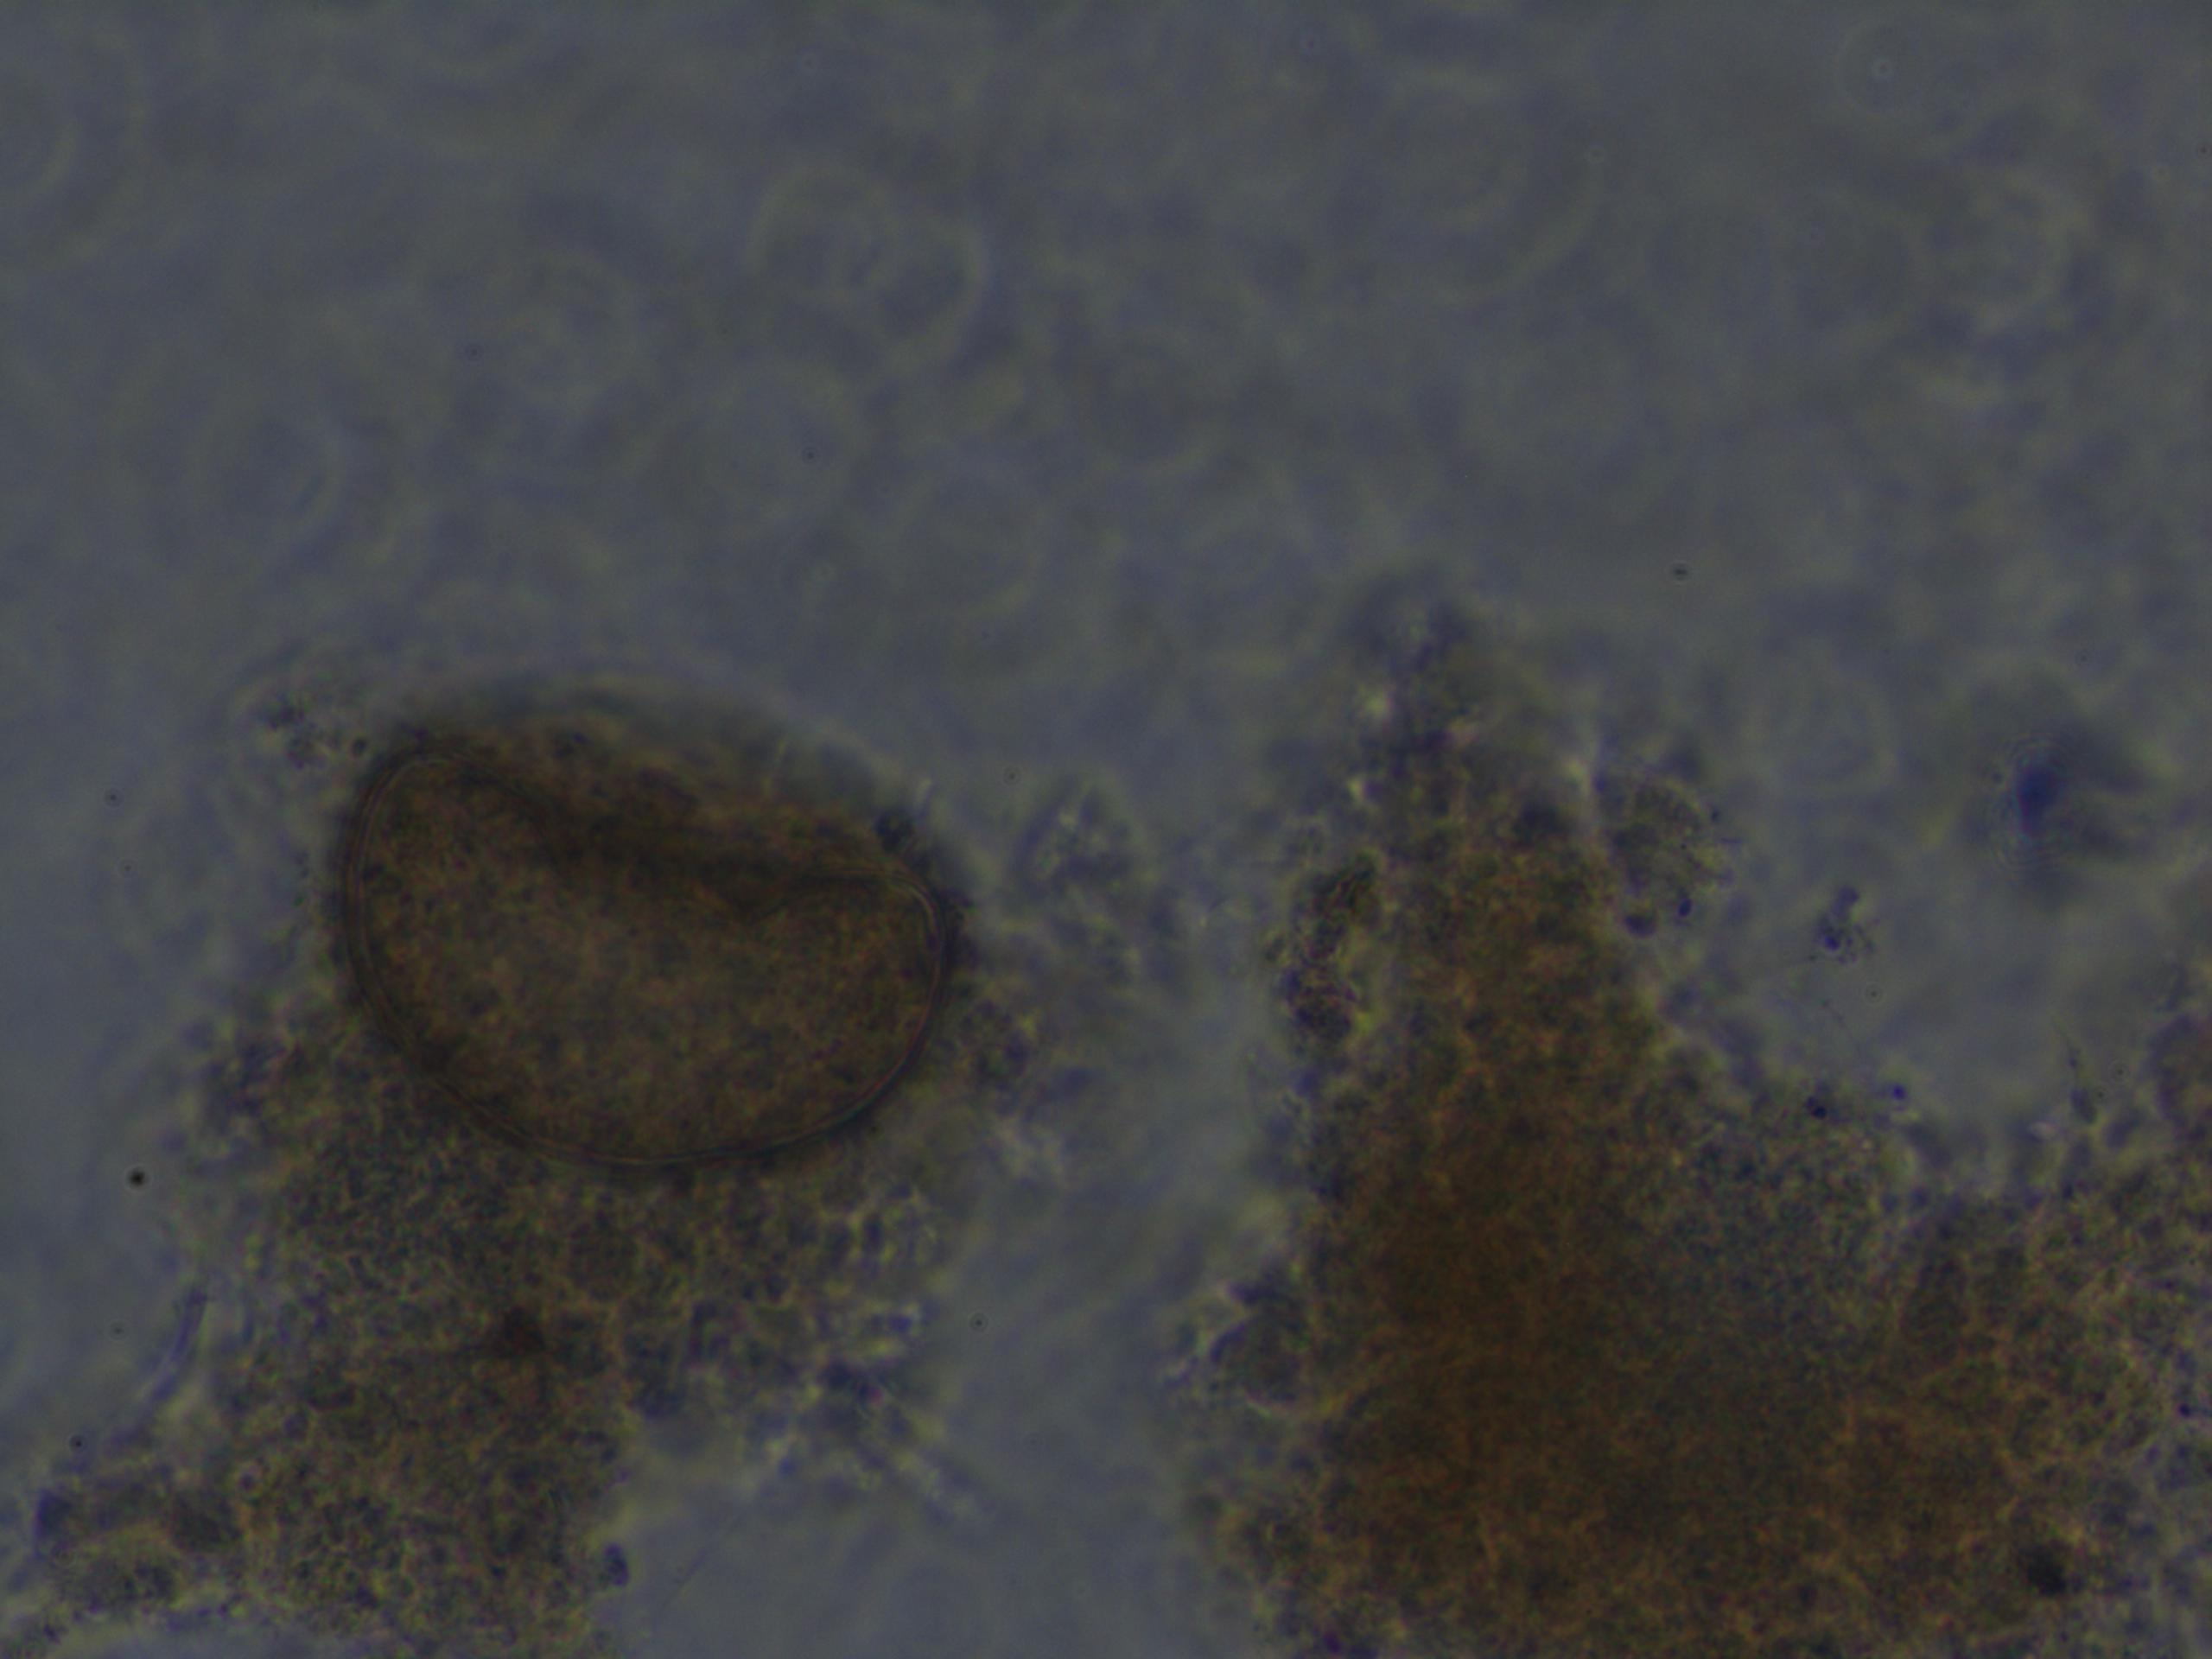protozoa: (320, 706, 965, 1178)
